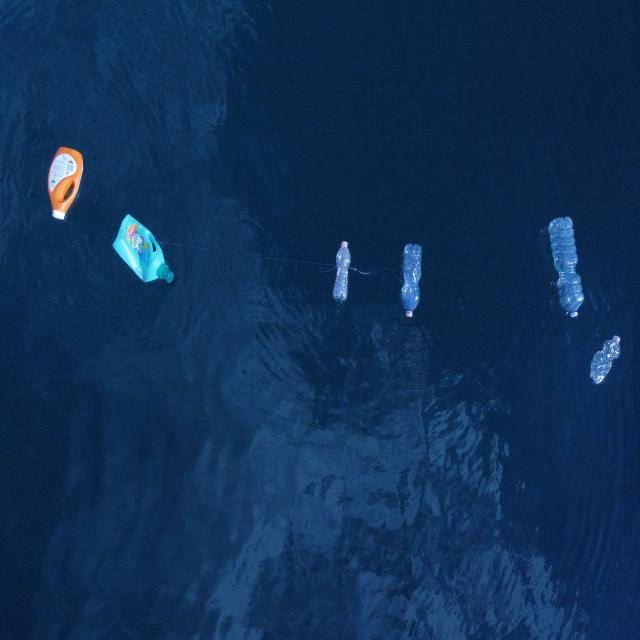bottles: (112, 213, 175, 286), (547, 214, 585, 320), (48, 144, 85, 222), (401, 241, 423, 320), (590, 333, 621, 384), (332, 239, 353, 305)
